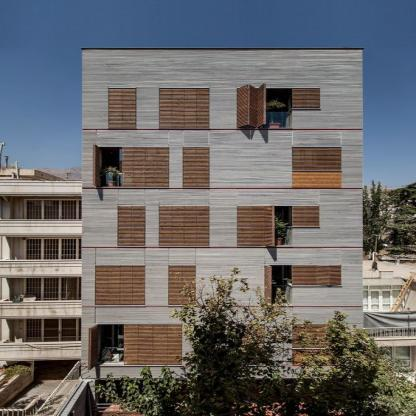Blind: (95, 147, 169, 187), (123, 325, 182, 365), (237, 88, 292, 129), (159, 88, 210, 129), (159, 206, 210, 247), (95, 265, 145, 306), (237, 205, 274, 247), (237, 83, 266, 128), (292, 147, 342, 172), (293, 325, 345, 348), (237, 325, 266, 365), (109, 88, 137, 129), (118, 206, 146, 247), (168, 265, 196, 306), (182, 147, 210, 187), (292, 265, 342, 286), (292, 88, 320, 109), (292, 206, 319, 226), (88, 324, 98, 371), (265, 265, 272, 305)
Building Outline: (54, 48, 363, 416)
Dont: (92, 267, 416, 416)
Facade: (82, 48, 363, 416)
Floor: (82, 48, 363, 135), (82, 317, 363, 374), (82, 257, 363, 313), (82, 198, 363, 252), (82, 140, 363, 193), (82, 378, 363, 416)
Floor Slab: (82, 135, 363, 140), (82, 252, 363, 257), (82, 194, 363, 198), (82, 313, 363, 317), (82, 374, 363, 378)
Window: (95, 325, 182, 365), (95, 147, 169, 187), (237, 88, 292, 129), (237, 206, 292, 247), (159, 88, 210, 129), (159, 206, 210, 247), (95, 265, 145, 306), (292, 147, 342, 172), (293, 325, 345, 348), (237, 325, 266, 365), (109, 88, 137, 129), (118, 206, 146, 247), (168, 265, 196, 306), (182, 147, 210, 187), (265, 265, 292, 306), (292, 265, 342, 286), (292, 88, 320, 109), (292, 206, 319, 226)
